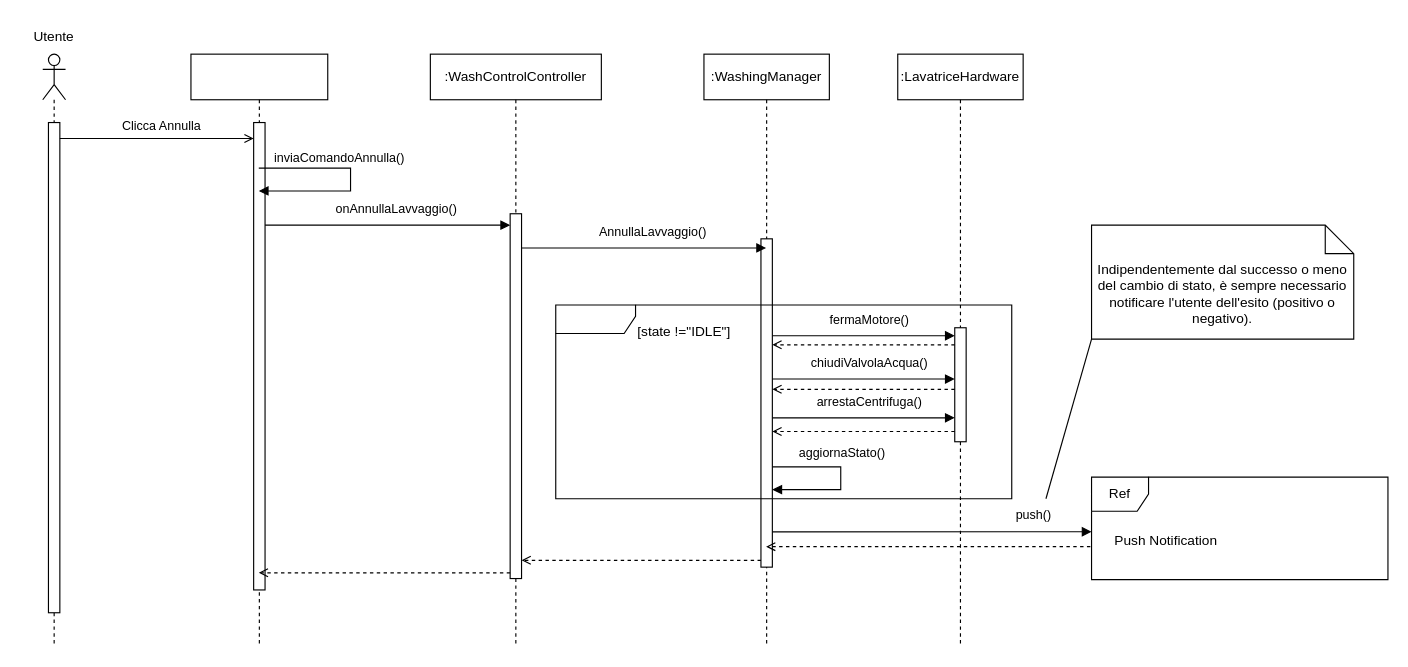
Image size: 1408x667. Some labels were removed from this diagram. Each missing label, with the box of its shape:
:WashControlMenu: (190, 53, 328, 647)
ALT: (555, 304, 1012, 499)
